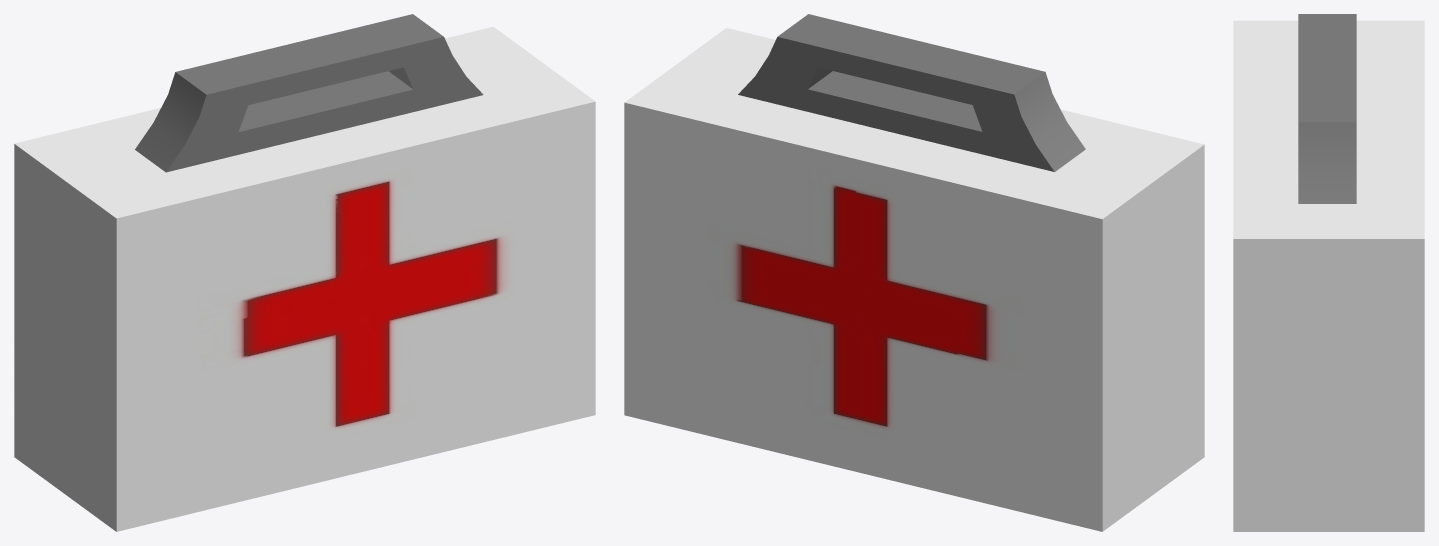
The model's file is FirstAid.fbx.
The picture shows the model from 3 angles, left to right: view 1: azimuth 30°, elevation 25°; view 2: azimuth 150°, elevation 25°; view 3: azimuth 270°, elevation 25°; orthographic projection. The views are drawn at different scales.
Visible parts, largest first — view 1: pCube1; view 2: pCube1; view 3: pCube1.
Boxes of the visible parts, x1,y1,x2,y2 form: pCube1: [14, 14, 595, 531]; pCube1: [624, 14, 1204, 531]; pCube1: [1233, 14, 1424, 531].
Size of the model in its own units: 40 by 30.41 by 14.79.
